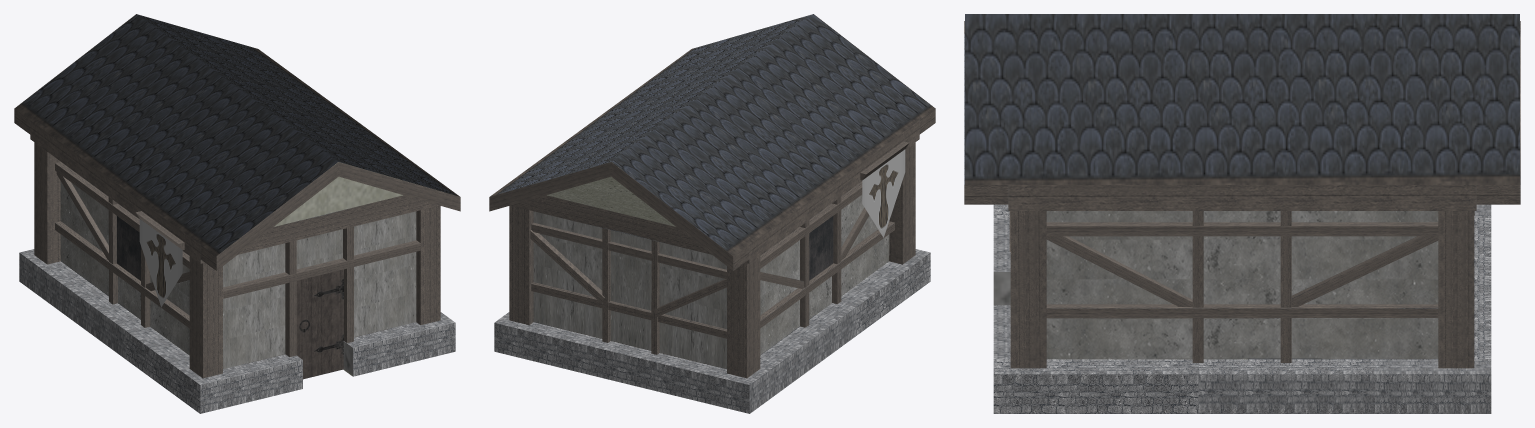
File: Priest Quarters.fbx
The picture shows the model from 3 angles, left to right: view 1: azimuth 30°, elevation 25°; view 2: azimuth 150°, elevation 25°; view 3: azimuth 270°, elevation 25°; orthographic projection. The views are drawn at different scales.
Parts seen in each view (by area): view 1: gUARDHOUSE.001; view 2: gUARDHOUSE.001; view 3: gUARDHOUSE.001.
Part boxes in pixels (x1,y1,x2,y2): gUARDHOUSE.001: [14, 14, 460, 413]; gUARDHOUSE.001: [489, 14, 935, 413]; gUARDHOUSE.001: [964, 14, 1520, 413].
Size of the model in its own units: 1844 by 1575 by 2526.
1 material, 1 textured.
